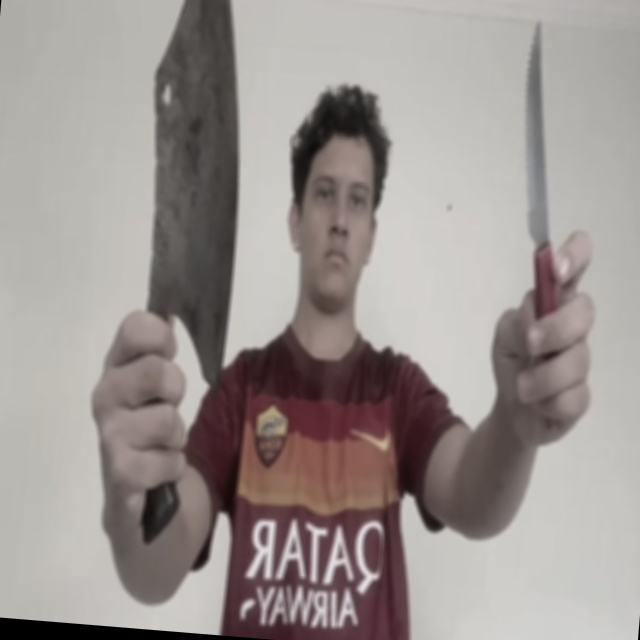Sharp-Object: (125, 0, 262, 389), (509, 16, 572, 244)
